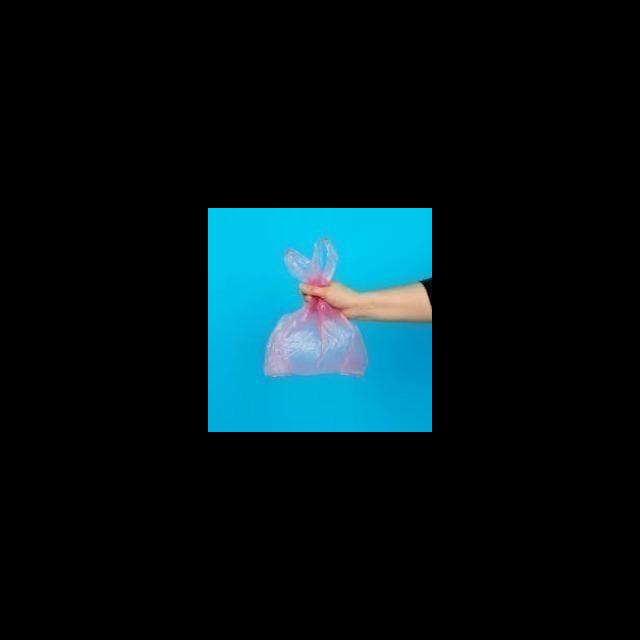plastic: (261, 237, 373, 386)
